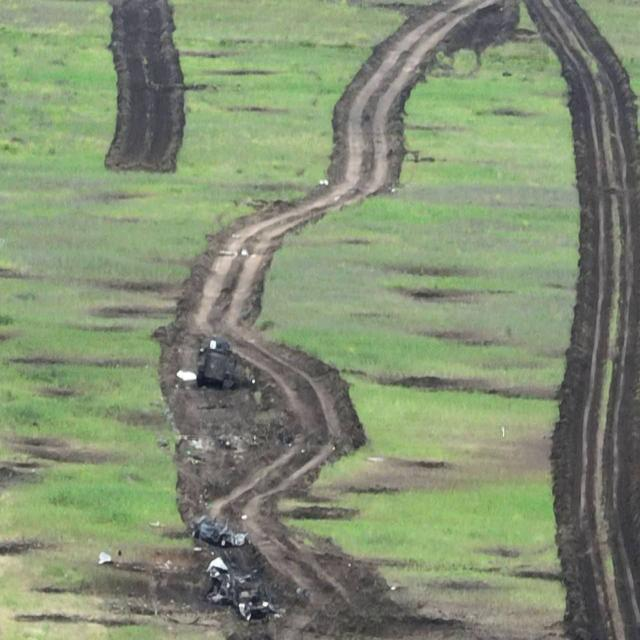AIFV: (194, 335, 240, 388)
Destroyed: (202, 559, 274, 624), (194, 516, 250, 549)
